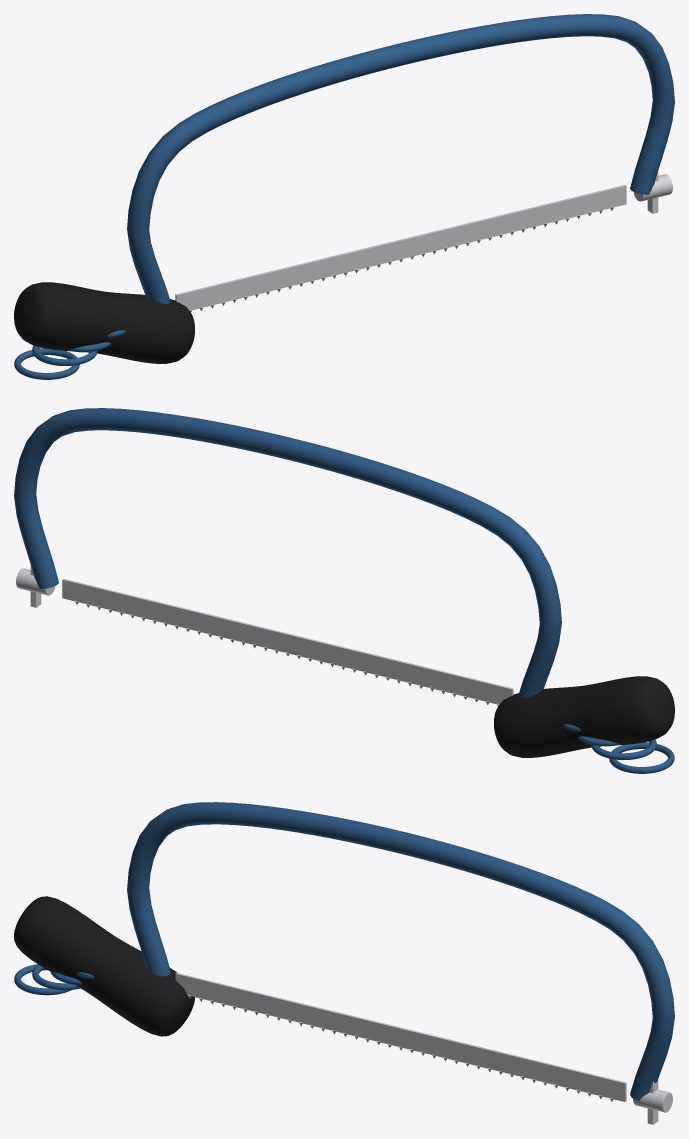
The model's file is hacksaw.glb.
The picture shows the model from 3 angles, top to bottom: view 1: azimuth 30°, elevation 25°; view 2: azimuth 150°, elevation 25°; view 3: azimuth 330°, elevation 25°; orthographic projection.
Parts seen in each view (by area): view 1: frame, grip, blade, grip ridge; view 2: frame, grip, blade, grip ridge; view 3: frame, grip, blade, wingnut, grip ridge.
Part boxes in pixels (x1,y1,x2,y2): frame: (127, 14, 674, 303); grip: (14, 282, 194, 363); blade: (175, 185, 626, 310); grip ridge: (14, 348, 79, 379); frame: (14, 408, 561, 697); grip: (494, 676, 674, 757); blade: (62, 579, 513, 704); grip ridge: (609, 742, 674, 773); frame: (127, 802, 674, 1101); grip: (14, 896, 194, 1036); blade: (175, 973, 626, 1101); wingnut: (633, 1089, 672, 1112); grip ridge: (14, 964, 71, 995).
Size of the model in its own units: 0.4366 by 0.1648 by 0.039.
